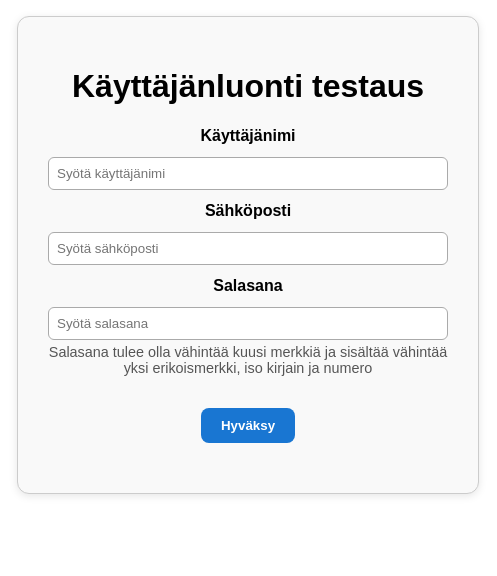
Test case: Salasana vahvuus Testi › displays an error for a weak password
This screenshot has width=497, height=576.
Type "Testikäyttäjä1" into the field with placeholder "Syötä käyttäjänimi".
click(248, 174); type("Testikäyttäjä1")  # box top-left (48, 157), bottom-right (448, 190)
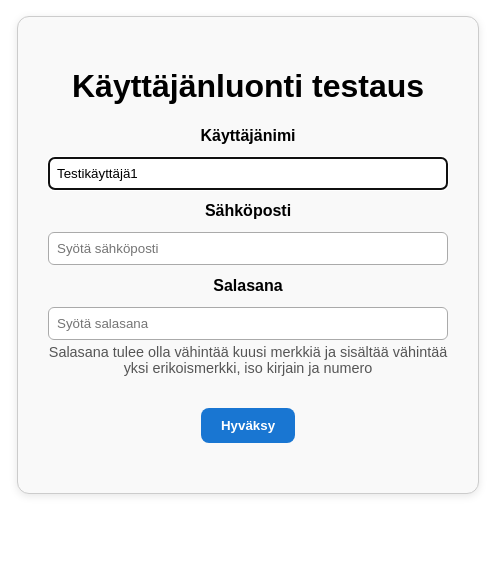
Type "testi@gmail.com" into the field with placeholder "Syötä sähköposti".
click(248, 249); type("testi@gmail.com")  # box top-left (48, 232), bottom-right (448, 265)
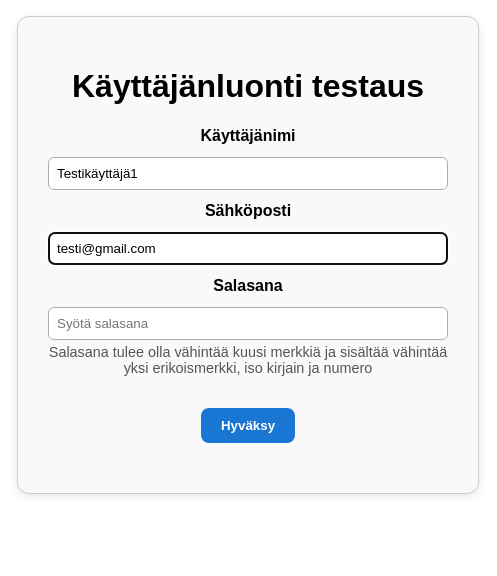
Type "jonne" into the password field with placeholder "Syötä salasana".
click(248, 324); type("jonne")  # box top-left (48, 307), bottom-right (448, 340)
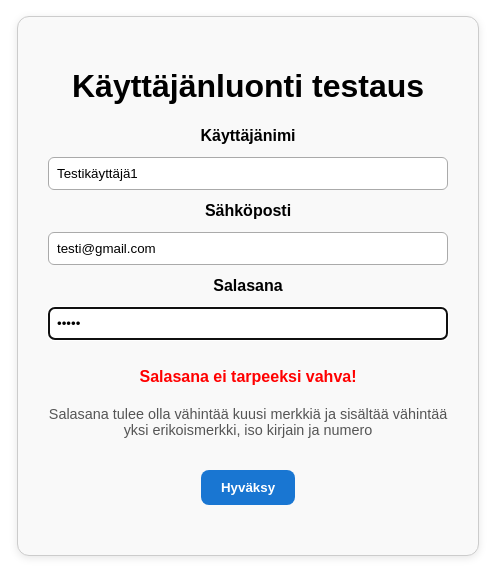
expect the text "Salasana ei tarpeeksi vahva!" is shown: met, box top-left (140, 368), bottom-right (356, 385)
Type "Jonne62!" into the password field with placeholder "Syötä salasana".
click(248, 324); type("Jonne62!")  # box top-left (48, 307), bottom-right (448, 340)
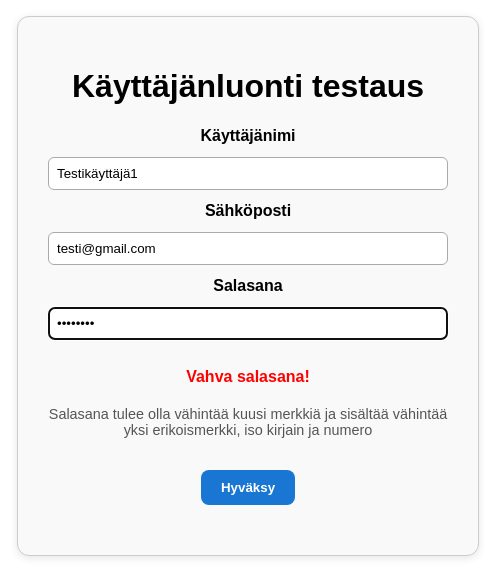
expect the text "Hyväksy" is enabled: met
expect the text "Vahva salasana!" is shown: met, box top-left (186, 368), bottom-right (310, 385)
